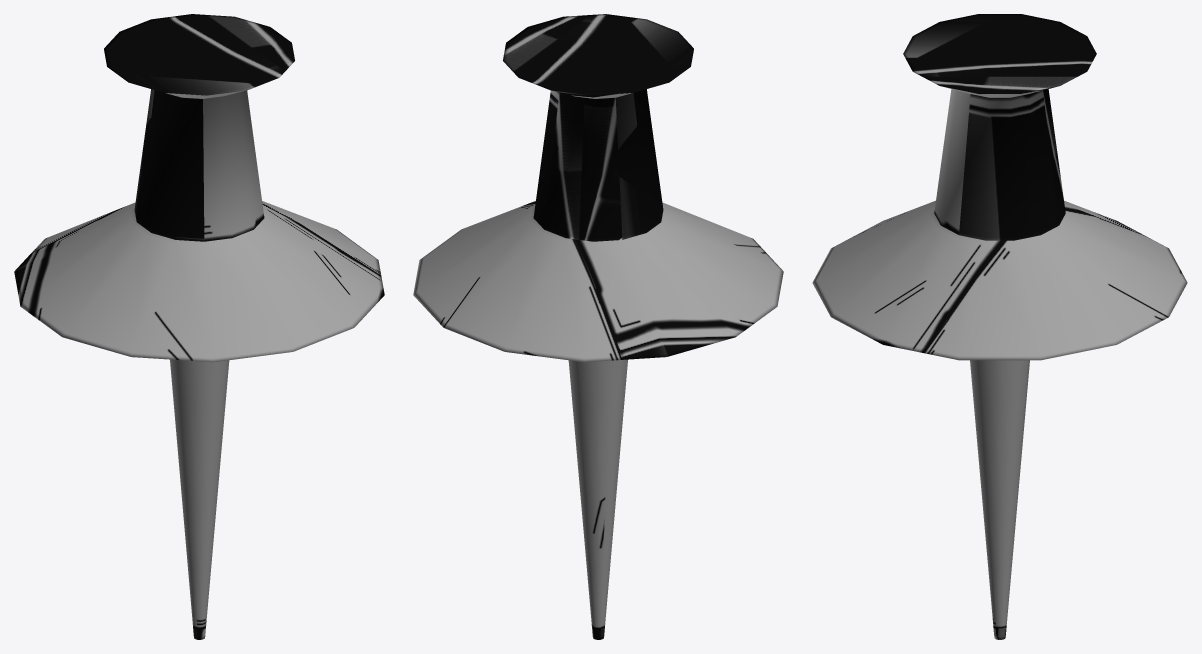
The model's file is PinJebakanJadi.fbx.
3 views of the same model, side by side, from view 1: azimuth 30°, elevation 25°; view 2: azimuth 150°, elevation 25°; view 3: azimuth 270°, elevation 25° (orthographic).
Visible parts, largest first — view 1: Circle.001; view 2: Circle.001; view 3: Circle.001.
Boxes of the visible parts, x1,y1,x2,y2 form: Circle.001: (14,14,384,639); Circle.001: (413,14,783,639); Circle.001: (812,14,1187,639).
Bounding box in the file's own units: 184 × 324 × 189.
